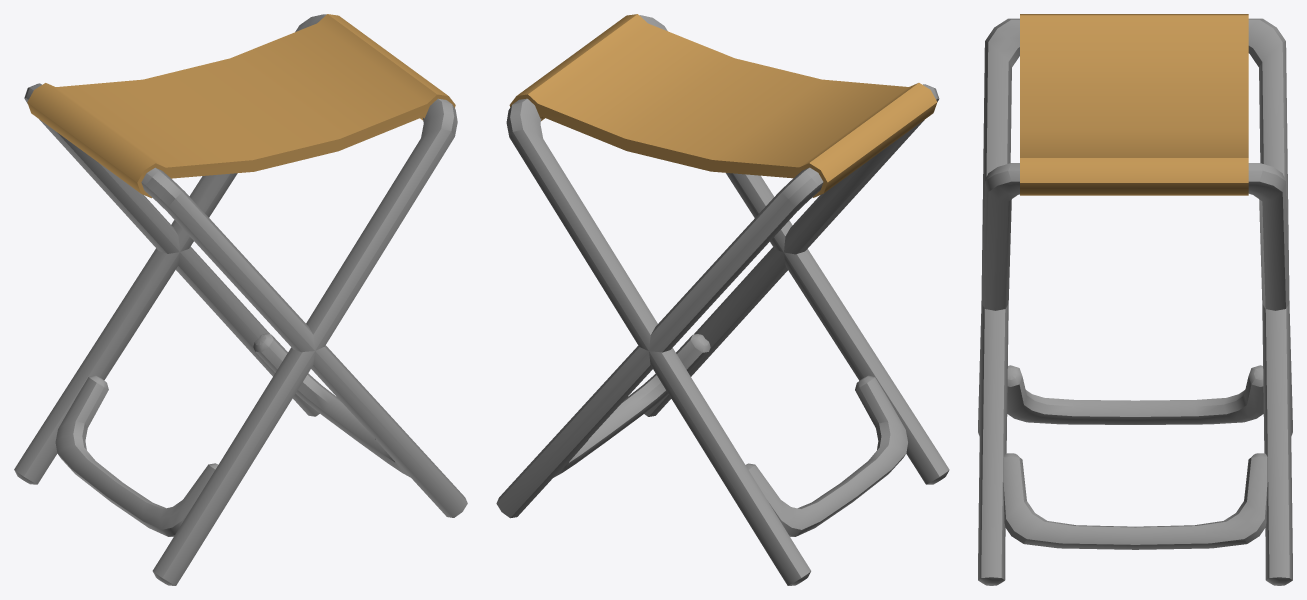
File: camperStool.fbx
The picture shows the model from 3 angles, left to right: view 1: azimuth 30°, elevation 25°; view 2: azimuth 150°, elevation 25°; view 3: azimuth 270°, elevation 25°; orthographic projection. The views are drawn at different scales.
Visible parts, largest first — view 1: camperStool; view 2: camperStool; view 3: camperStool.
Boxes of the visible parts, bbox=[...] form: camperStool: bbox=[14, 14, 467, 585]; camperStool: bbox=[496, 14, 949, 585]; camperStool: bbox=[978, 14, 1292, 585].
Bounding box in the file's own units: 41.82 × 51.62 × 34.44.
